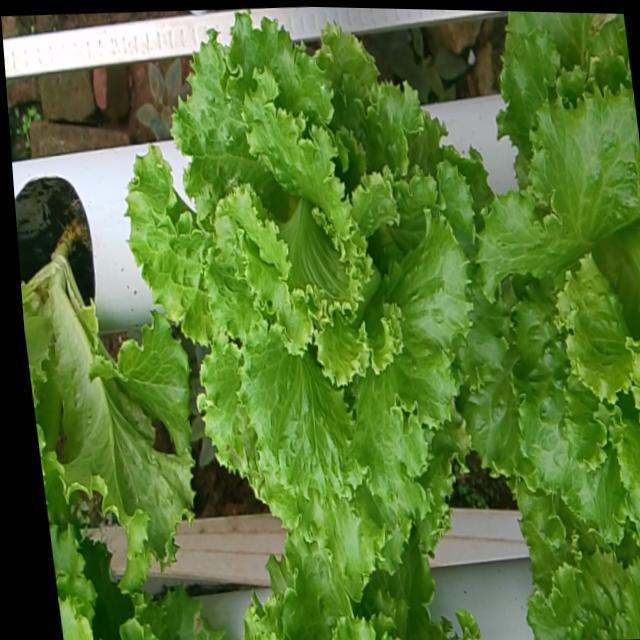Mature: (136, 9, 482, 564), (468, 74, 640, 535)
